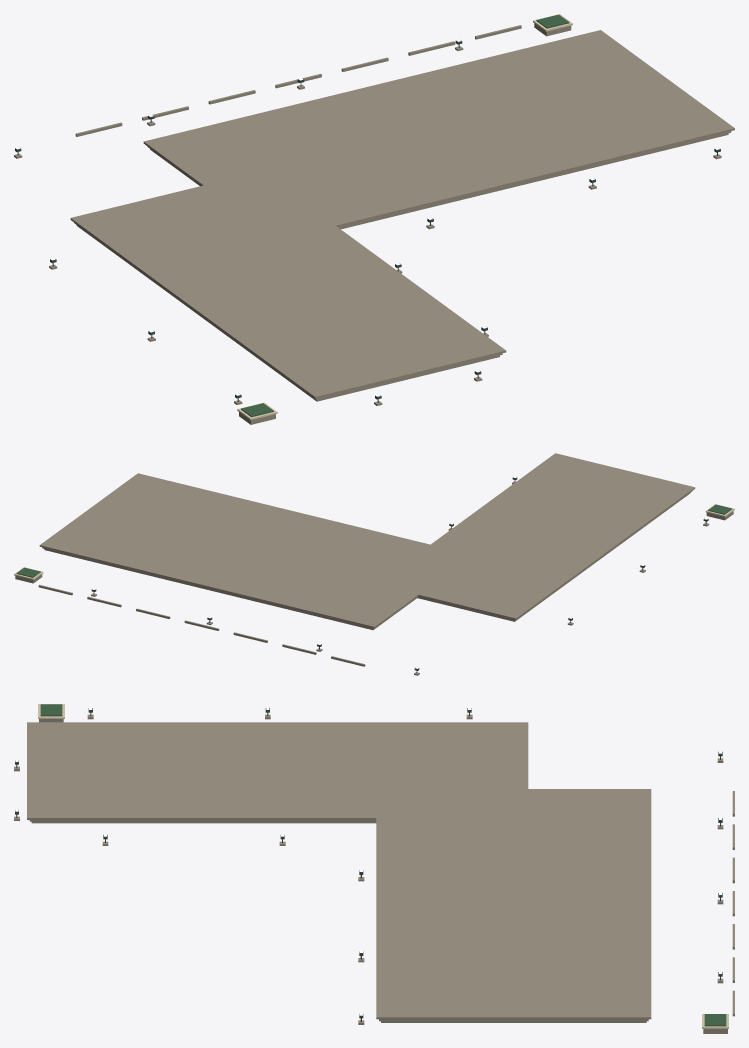
The model's file is KOL_T1_GPO__09_Foundation_Detail.fbx.
3 views of the same model, one above another, from view 1: azimuth 30°, elevation 25°; view 2: azimuth 150°, elevation 25°; view 3: azimuth 270°, elevation 25° (orthographic). The views are drawn at different scales.
Parts seen in each view (by area): view 1: KOL_T1_GPO__09_Foundation_Detail__KOL_T1_HeritageStone; view 2: KOL_T1_GPO__09_Foundation_Detail__KOL_T1_HeritageStone; view 3: KOL_T1_GPO__09_Foundation_Detail__KOL_T1_HeritageStone, KOL_T1_GPO__09_Foundation_Detail__KOL_T1_Leaf.
Boxes of the visible parts, x1,y1,x2,y2 form: KOL_T1_GPO__09_Foundation_Detail__KOL_T1_HeritageStone: [14, 23, 734, 424]; KOL_T1_GPO__09_Foundation_Detail__KOL_T1_HeritageStone: [15, 453, 733, 675]; KOL_T1_GPO__09_Foundation_Detail__KOL_T1_HeritageStone: [14, 714, 734, 1033]; KOL_T1_GPO__09_Foundation_Detail__KOL_T1_Leaf: [40, 704, 726, 1026].
Bounding box in the file's own units: 156 × 4.13 × 147.
